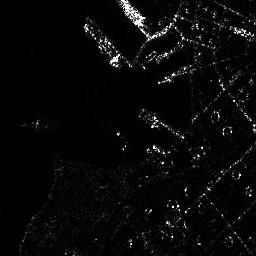ship: (80, 22, 121, 67), (118, 1, 153, 33)
